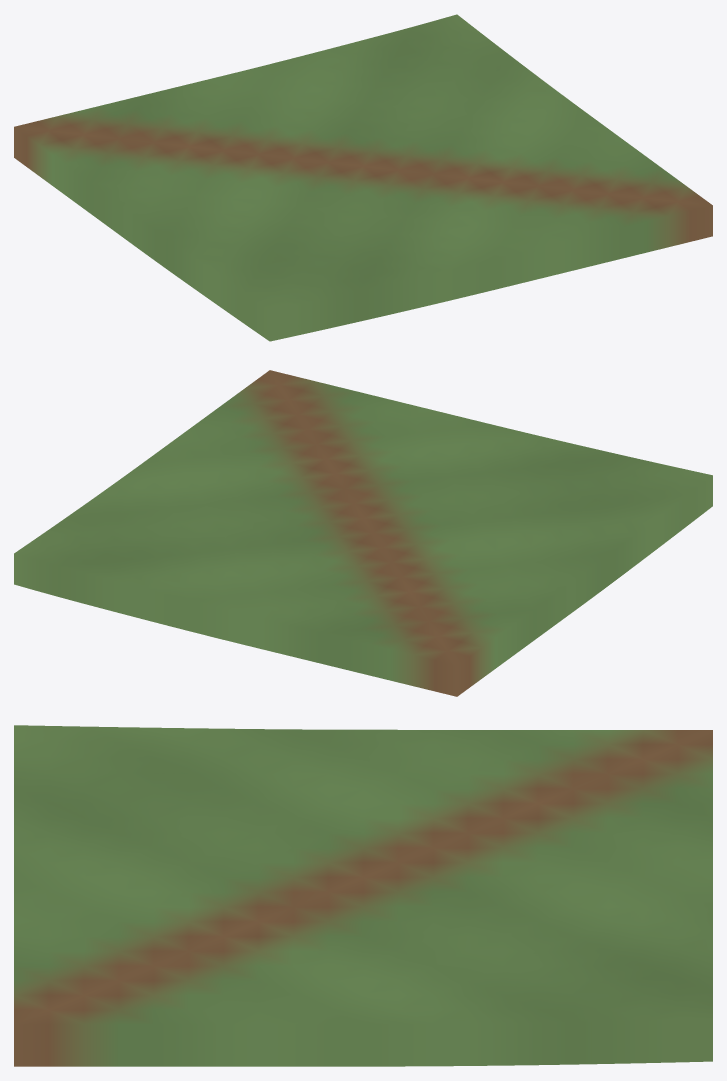
The picture shows the model from 3 angles, top to bottom: view 1: azimuth 30°, elevation 25°; view 2: azimuth 150°, elevation 25°; view 3: azimuth 270°, elevation 25°; orthographic projection. The views are drawn at different scales.
Visible parts, largest first — view 1: terrain; view 2: terrain; view 3: terrain.
Boxes of the visible parts, x1,y1,x2,y2 form: terrain: (14,14,712,341); terrain: (14,370,712,696); terrain: (14,725,712,1066).
Size of the model in its own units: 30 by 2.28 by 30.
